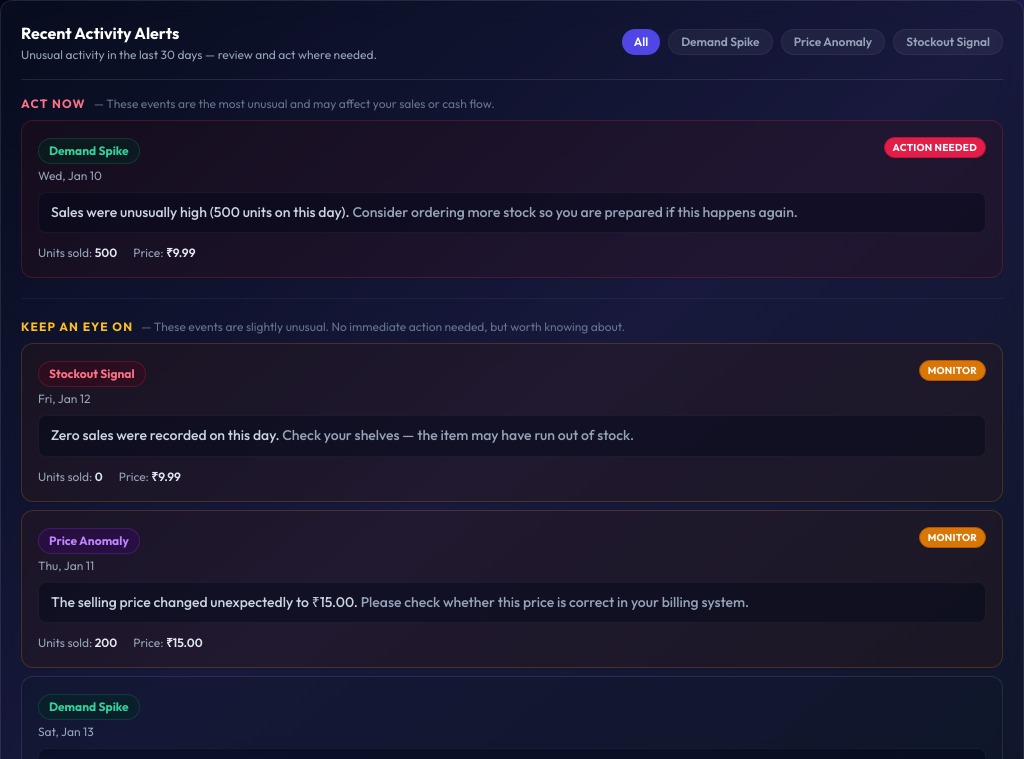
Test case: AnomalyTable › filter chips › filters to only demand_spike rows when "Demand Spike" chip is clicked
Click the button "Demand Spike" at (720, 42), box [668,29,773,55]
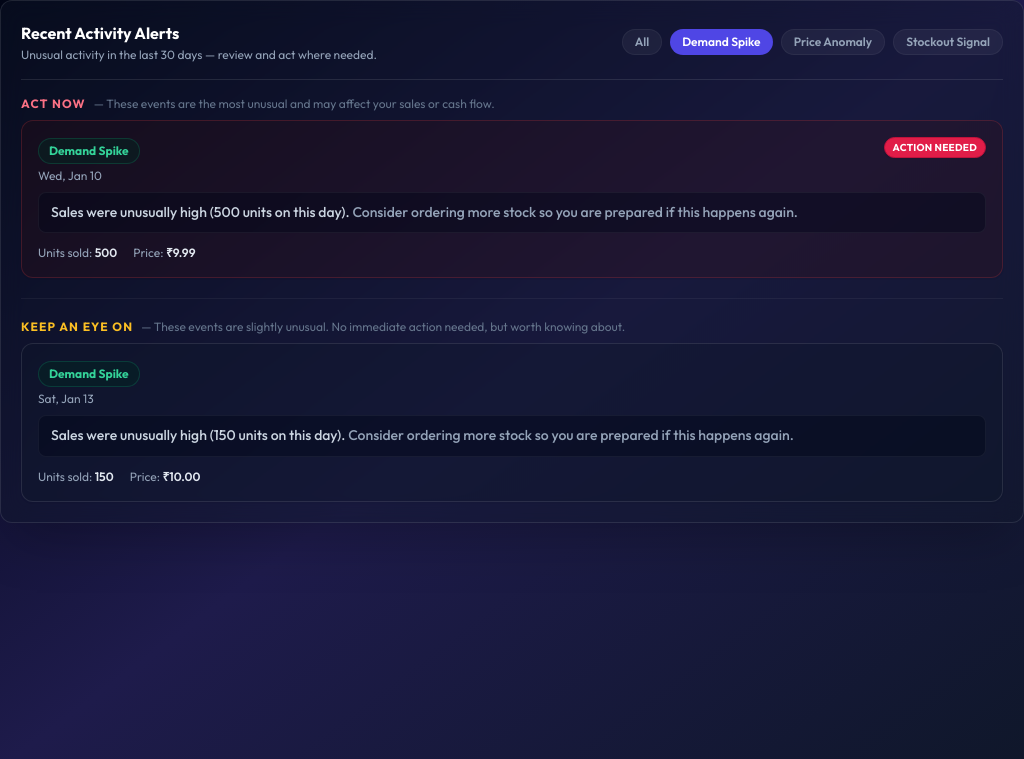
Expected: the element with test id "anomaly-card-2024-01-10" is shown, [21,120,1003,278]
Expected: the element with test id "anomaly-card-2024-01-11" is gone
Expected: the element with test id "anomaly-card-2024-01-12" is gone
